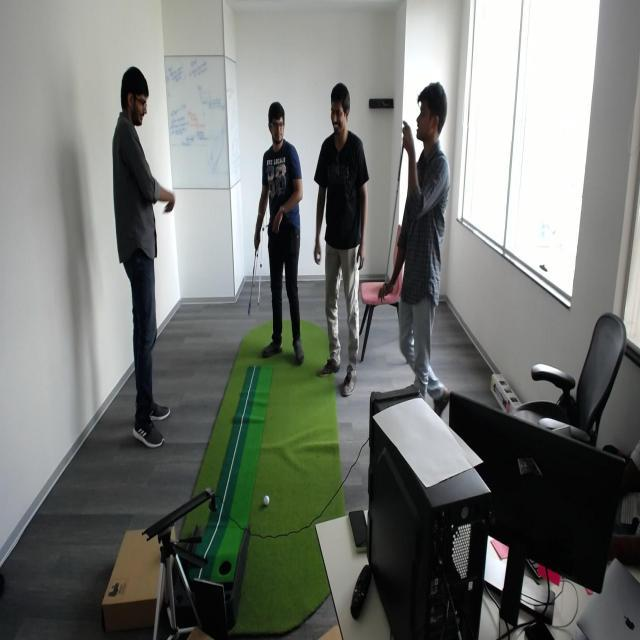GolfBall: (263, 492, 272, 511)
